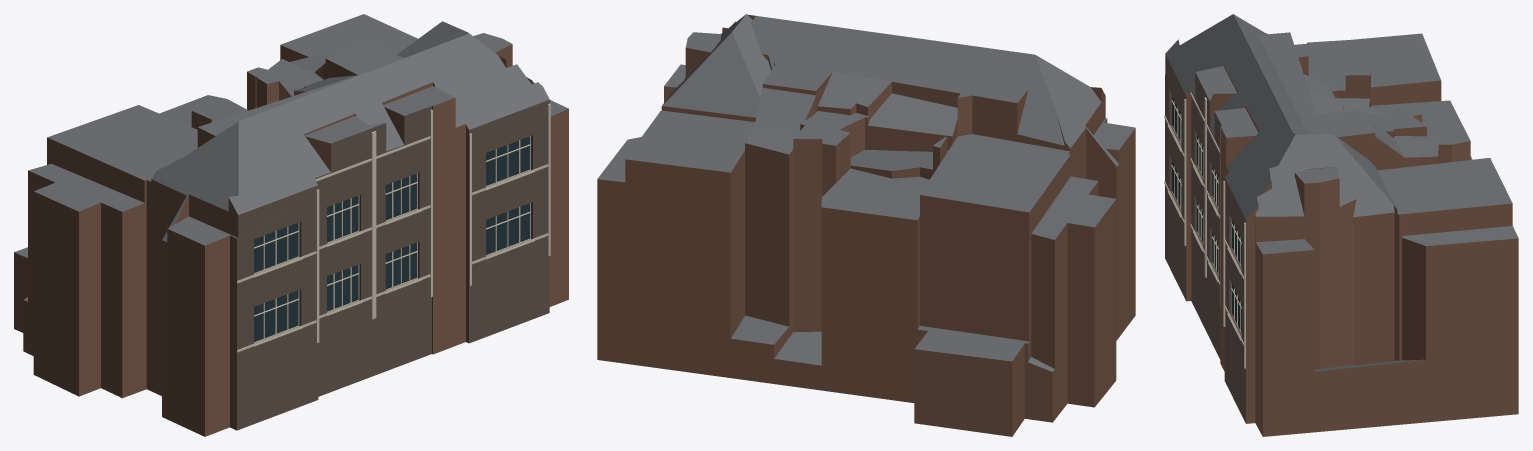
File: recipe-large-montessori-van-ostade.glb
The picture shows the model from 3 angles, left to right: view 1: azimuth 30°, elevation 25°; view 2: azimuth 150°, elevation 25°; view 3: azimuth 270°, elevation 25°; orthographic projection. The views are drawn at different scales.
Visible parts, largest first — view 1: montessori-van-ostade; view 2: montessori-van-ostade; view 3: montessori-van-ostade.
Part boxes in pixels (x1=…): montessori-van-ostade: x1=14, y1=14, x2=568, y2=436; montessori-van-ostade: x1=597, y1=14, x2=1135, y2=436; montessori-van-ostade: x1=1164, y1=14, x2=1518, y2=436.
Size of the model in its own units: 36.31 by 19.96 by 24.38.
